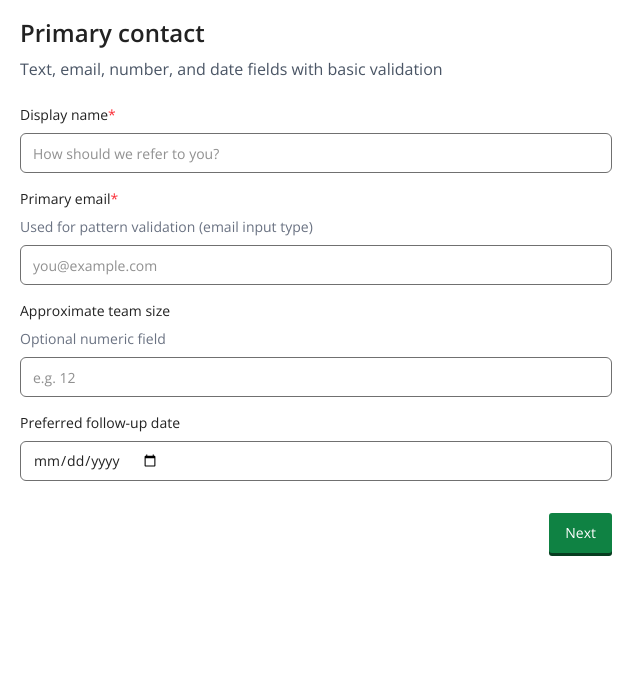
Survey 1 — Validation › navigates to next page when required fields are filled
Type "Alice" into the field with placeholder "How should we refer to you?".
click(316, 153); type("Alice")  # box [20,133,612,173]
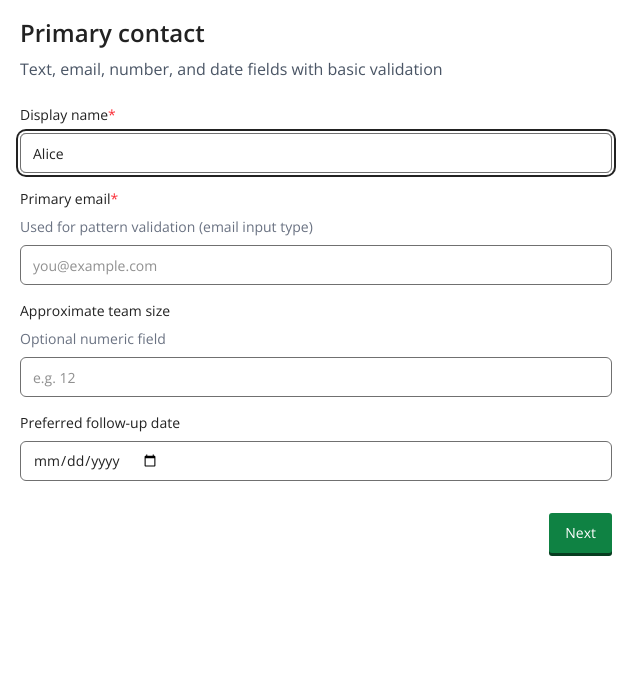
Type "alice@test.com" into the field with placeholder "you@example.com".
click(316, 265); type("alice@test.com")  # box [20,245,612,285]
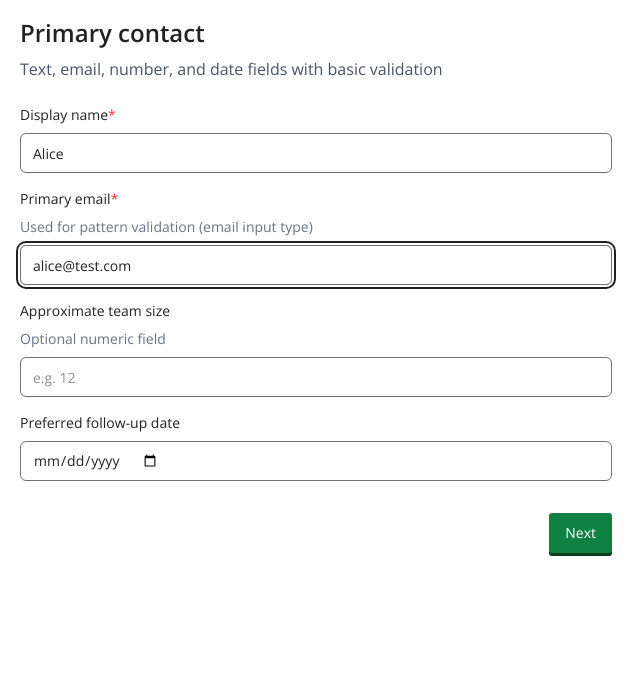
Click the button "Next".
click(581, 533)  # box [549,513,612,553]
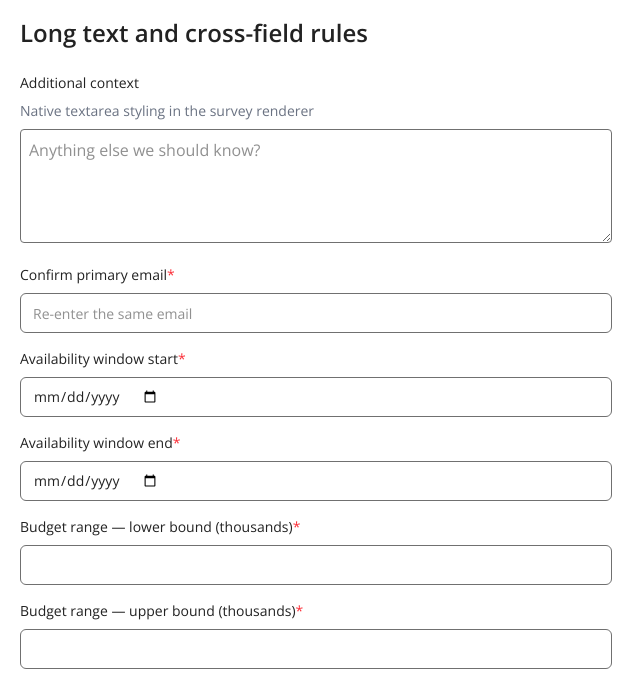
Expected: the heading "Long text and cross-field rules" is shown, [20,16,368,49]
